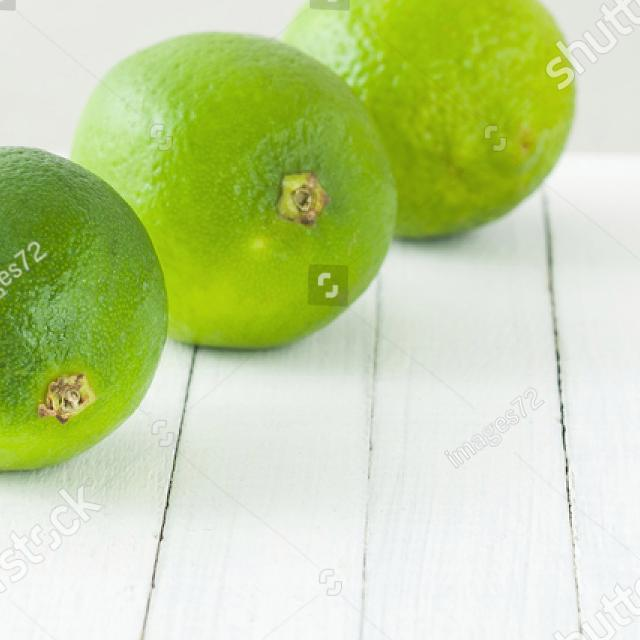lime: (63, 18, 411, 367), (262, 0, 579, 262), (0, 130, 183, 487)
